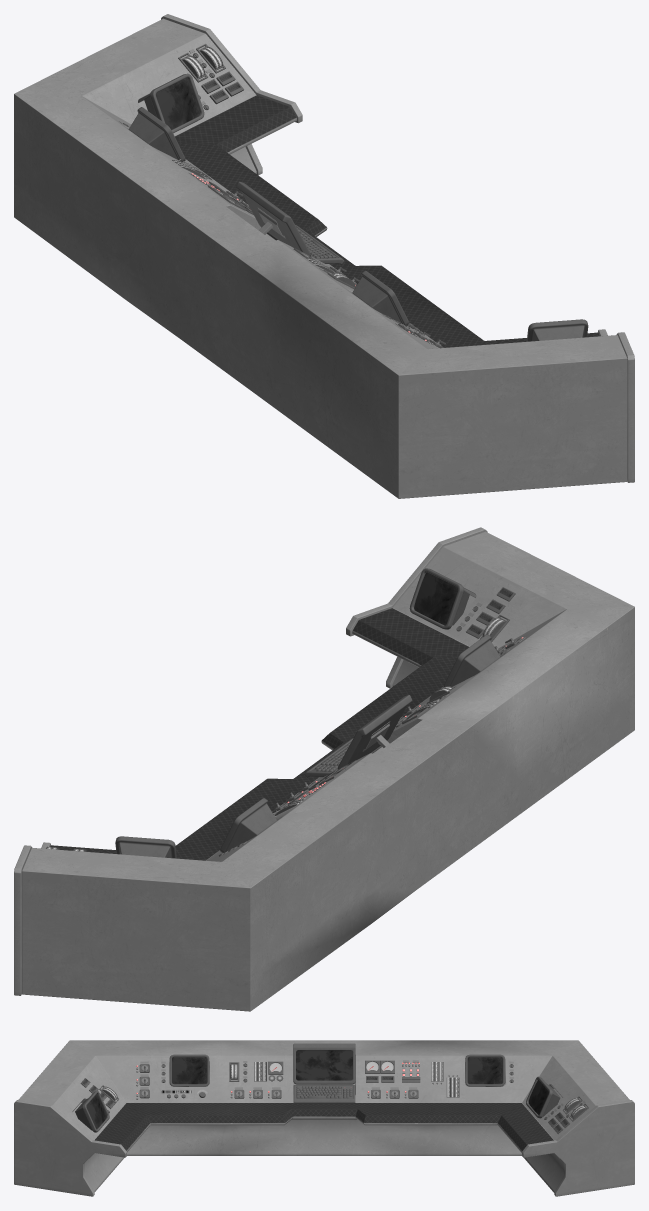
File: BG_CM_BD_Com_001.fbx
3 views of the same model, one above another, from view 1: azimuth 30°, elevation 25°; view 2: azimuth 150°, elevation 25°; view 3: azimuth 270°, elevation 25° (orthographic). The views are drawn at different scales.
Parts seen in each view (by area): view 1: com_001_low; view 2: com_001_low; view 3: com_001_low.
Boxes of the visible parts, x1=… form: com_001_low: x1=14, y1=14, x2=634, y2=498; com_001_low: x1=14, y1=527, x2=634, y2=1011; com_001_low: x1=14, y1=1040, x2=634, y2=1196.
Size of the model in its own units: 257 by 143 by 833.
1 material, 1 textured.
